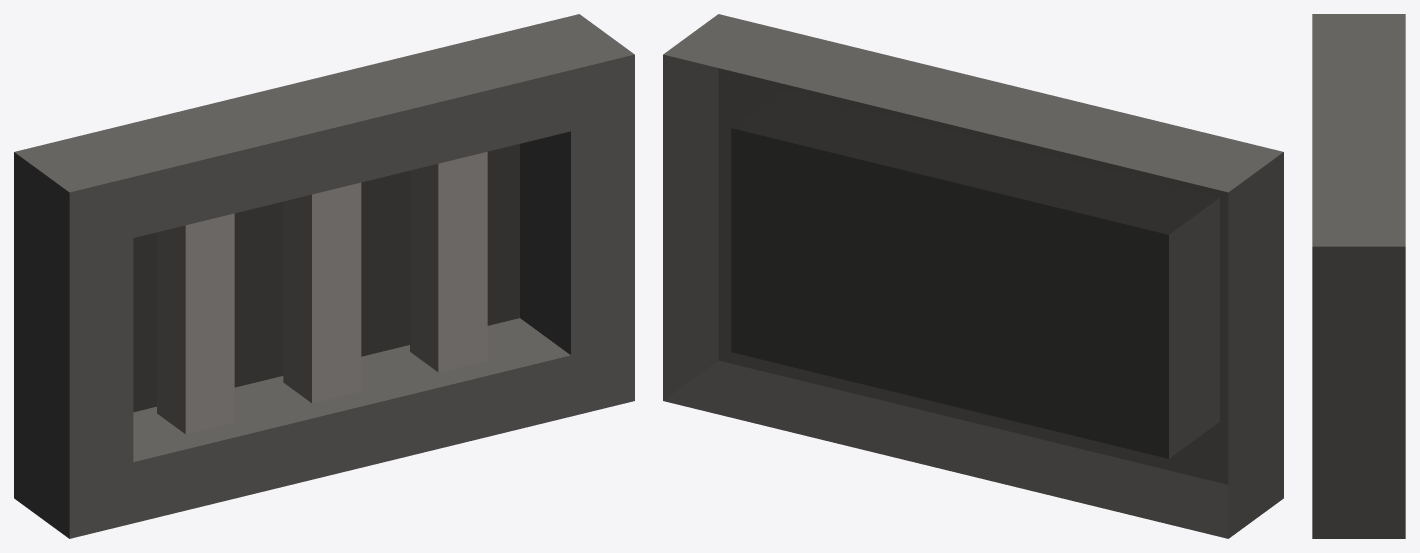
Rendered from AI_Env_Sewer_Grate.fbx.
The picture shows the model from 3 angles, left to right: view 1: azimuth 30°, elevation 25°; view 2: azimuth 150°, elevation 25°; view 3: azimuth 270°, elevation 25°; orthographic projection. The views are drawn at different scales.
Visible parts, largest first — view 1: AI_Env_Sewer_Grate; view 2: AI_Env_Sewer_Grate; view 3: AI_Env_Sewer_Grate.
Part boxes in pixels (<box>): AI_Env_Sewer_Grate: <box>14,14,634,538</box>; AI_Env_Sewer_Grate: <box>663,14,1283,538</box>; AI_Env_Sewer_Grate: <box>1312,14,1405,538</box>.
Bounding box in the file's own units: 1.19 × 0.6943 × 0.2012.
